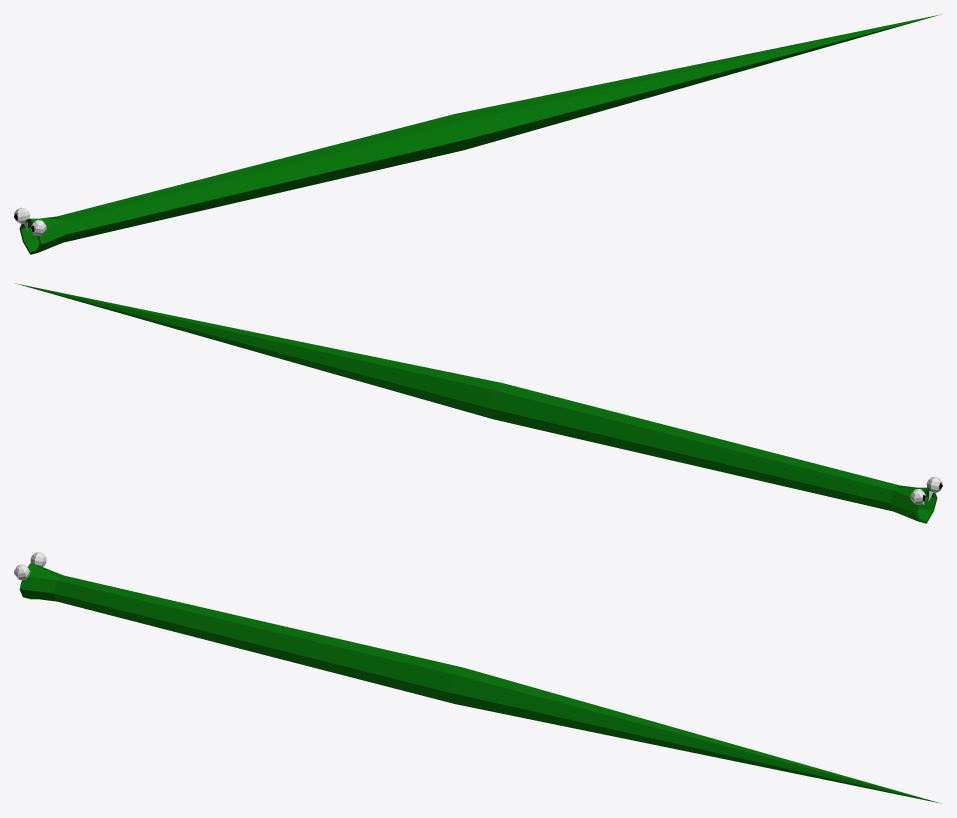
Rendered from snek.glb.
3 views of the same model, one above another, from view 1: azimuth 30°, elevation 25°; view 2: azimuth 150°, elevation 25°; view 3: azimuth 330°, elevation 25° (orthographic).
Parts seen in each view (by area): view 1: body; view 2: body; view 3: body.
Part boxes in pixels (<box>): body: <box>19,14,941,254</box>; body: <box>15,283,937,523</box>; body: <box>19,563,941,803</box>.
Size of the model in its own units: 12.84 by 0.5399 by 0.597.
